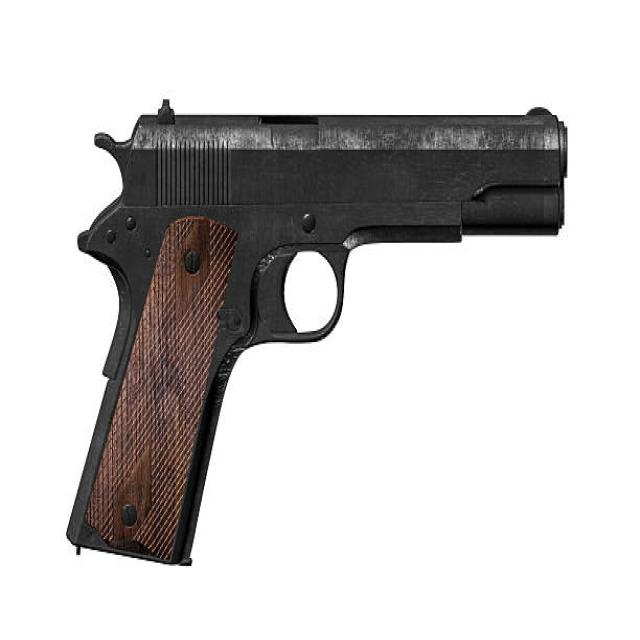pistol: (60, 75, 579, 576)
